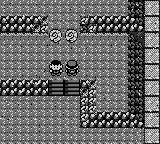captura: (0, 0, 160, 144)
leer: (64, 28, 78, 43), (49, 29, 62, 42)
main: (65, 60, 79, 76)
no-caminable: (80, 35, 144, 128), (81, 0, 144, 34), (145, 0, 159, 143), (0, 16, 48, 33), (0, 80, 49, 96)
npc: (49, 61, 63, 76)
